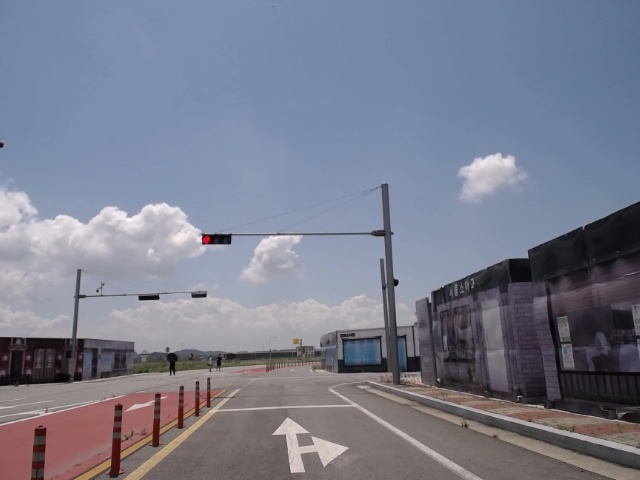red_3: (199, 233, 232, 246)
